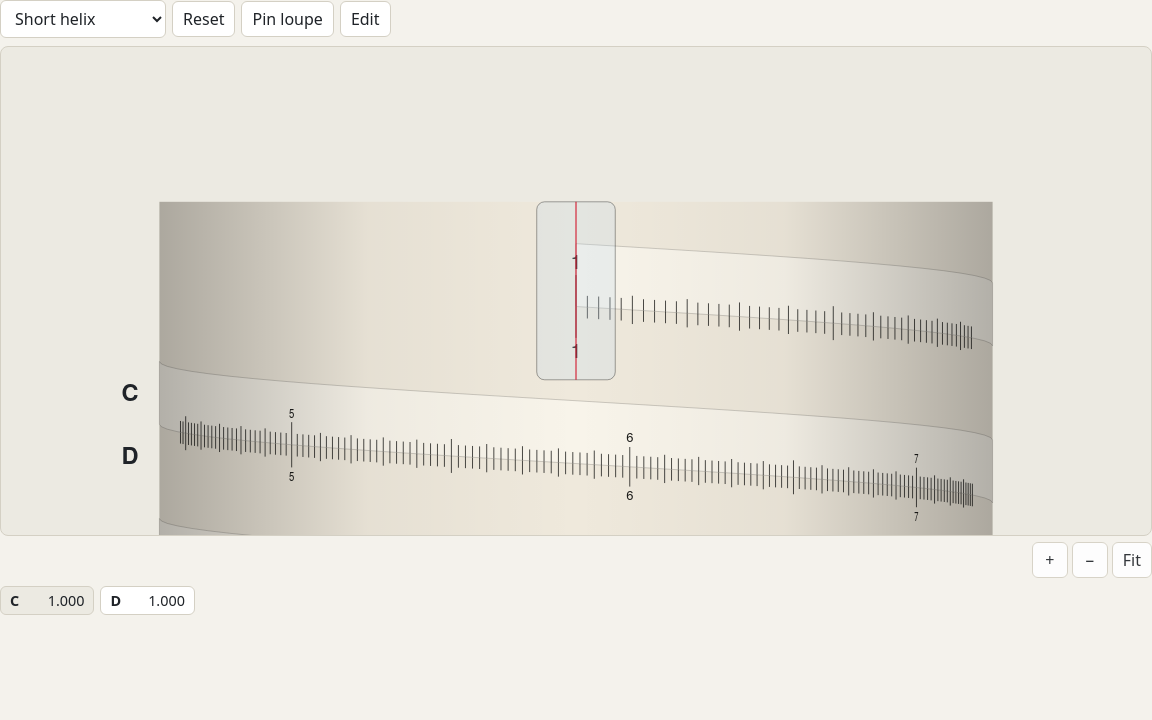
Test: the editor has no face tabs
The image size is (1152, 720).
Click the button "Edit" at (365,19), box [340, 1, 390, 37]
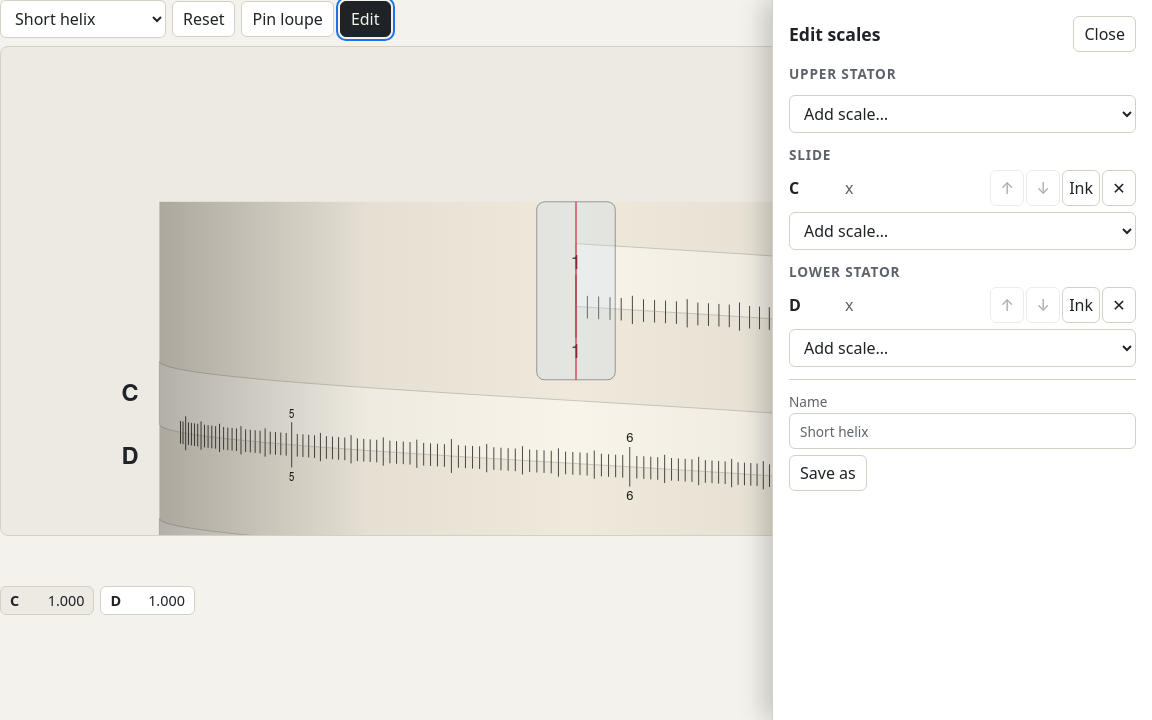
Check: the element named "Front slide" is shown, box [789, 145, 1136, 250]
